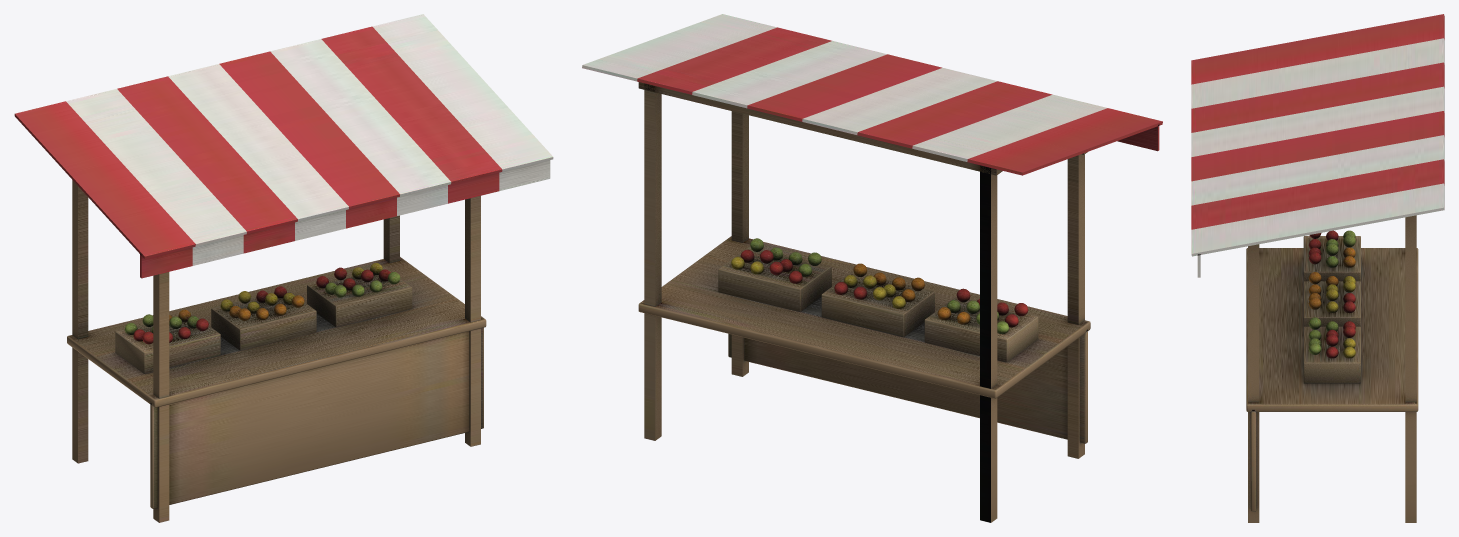
The model's file is market_stall.glb.
3 views of the same model, side by side, from view 1: azimuth 30°, elevation 25°; view 2: azimuth 150°, elevation 25°; view 3: azimuth 270°, elevation 25° (orthographic). The views are drawn at different scales.
Visible parts, largest first — view 1: beam_b; view 2: beam_b; view 3: beam_b.
Part boxes in pixels (<box>): beam_b: <box>14,14,553,522</box>; beam_b: <box>582,14,1162,522</box>; beam_b: <box>1191,14,1444,522</box>.
Bounding box in the file's own units: 3.2 × 2.59 × 1.77.
1 material, 1 textured.
